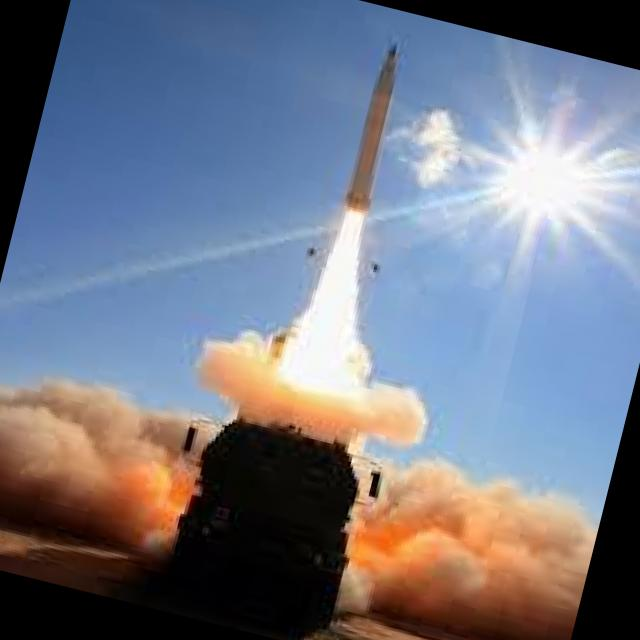rocket: (294, 22, 431, 369)
